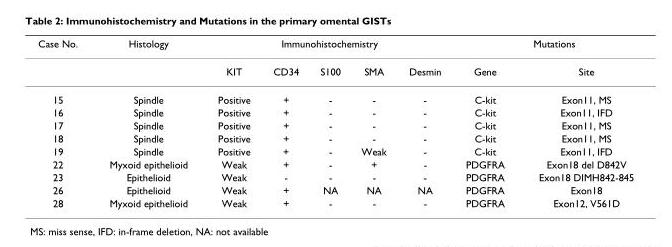table: (37, 37, 633, 208)
table column: (520, 37, 633, 208), (92, 37, 202, 208), (452, 37, 520, 208), (202, 37, 261, 208), (396, 37, 452, 208), (37, 37, 92, 208), (261, 37, 308, 208), (350, 37, 396, 208), (308, 37, 350, 208)
table column header: (37, 37, 633, 85)
table row: (37, 57, 633, 85), (37, 37, 633, 57), (37, 85, 633, 105), (37, 105, 633, 118), (37, 118, 633, 131), (37, 131, 633, 144), (37, 144, 633, 157), (37, 157, 633, 170), (37, 170, 633, 183), (37, 183, 633, 196), (37, 196, 633, 208)
table spanning cell: (92, 37, 202, 85), (202, 37, 452, 57), (452, 37, 633, 57), (37, 37, 92, 85)
